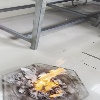fire: (34, 67, 67, 97)
